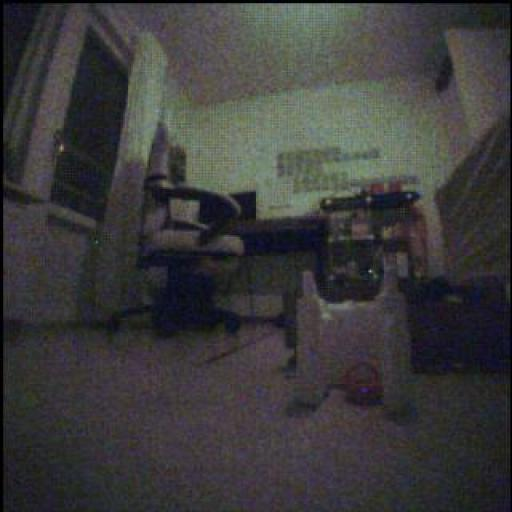basket: (344, 363, 384, 406)
